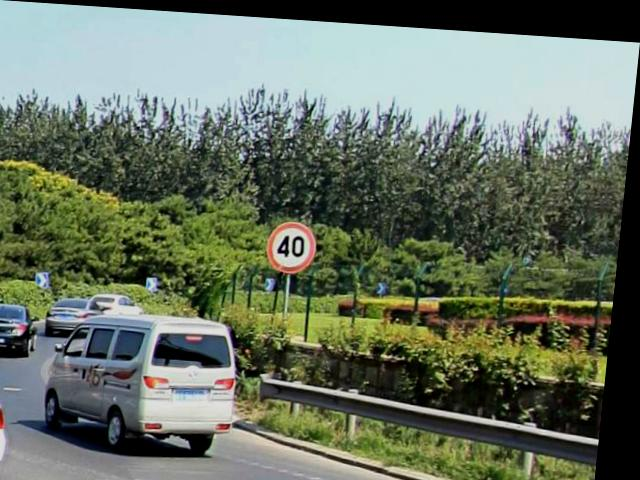limit40: (269, 216, 324, 271)
